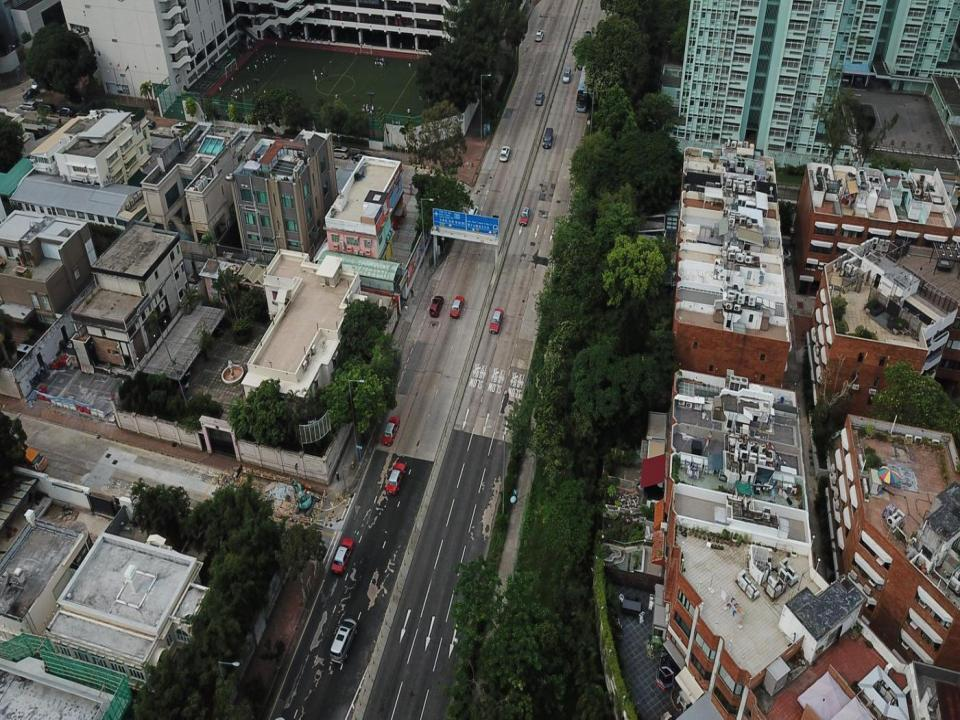bus: (575, 61, 591, 112), (576, 53, 586, 69)
car: (331, 537, 353, 574), (386, 461, 406, 494), (382, 417, 400, 445), (489, 308, 504, 333), (449, 296, 465, 319), (429, 295, 444, 317), (519, 206, 531, 226), (23, 88, 40, 99), (499, 146, 510, 162), (31, 78, 44, 88), (535, 92, 545, 105), (535, 28, 544, 42), (584, 30, 591, 42)
van: (329, 618, 357, 662), (542, 127, 553, 148), (57, 107, 76, 116), (38, 102, 55, 112), (20, 100, 36, 110), (562, 67, 571, 84)
